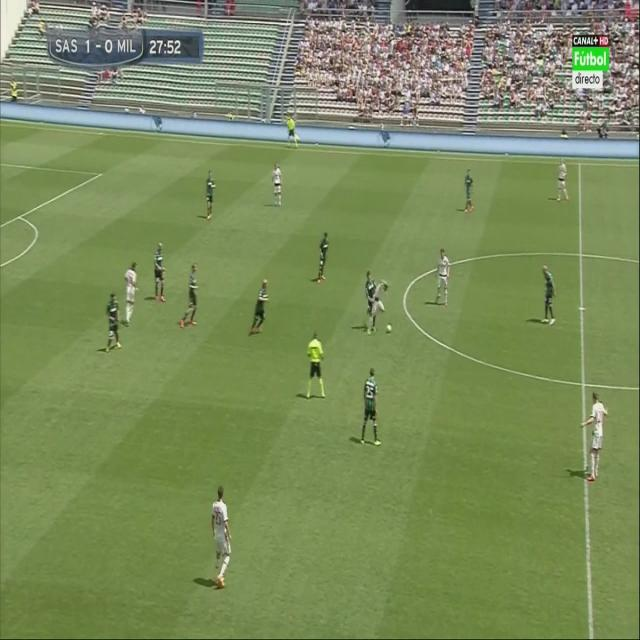Ball: (385, 321, 393, 333)
Player: (578, 392, 610, 481), (210, 482, 233, 594), (358, 367, 382, 452), (178, 258, 200, 333), (248, 280, 271, 340), (123, 260, 141, 330), (104, 286, 122, 355), (434, 245, 451, 312), (370, 281, 390, 335), (541, 264, 557, 328), (152, 240, 167, 306), (315, 232, 331, 285), (554, 158, 571, 206), (271, 162, 284, 212), (204, 168, 216, 222), (461, 165, 474, 212), (363, 269, 376, 308)
Referee: (305, 328, 327, 401), (282, 114, 301, 149)
